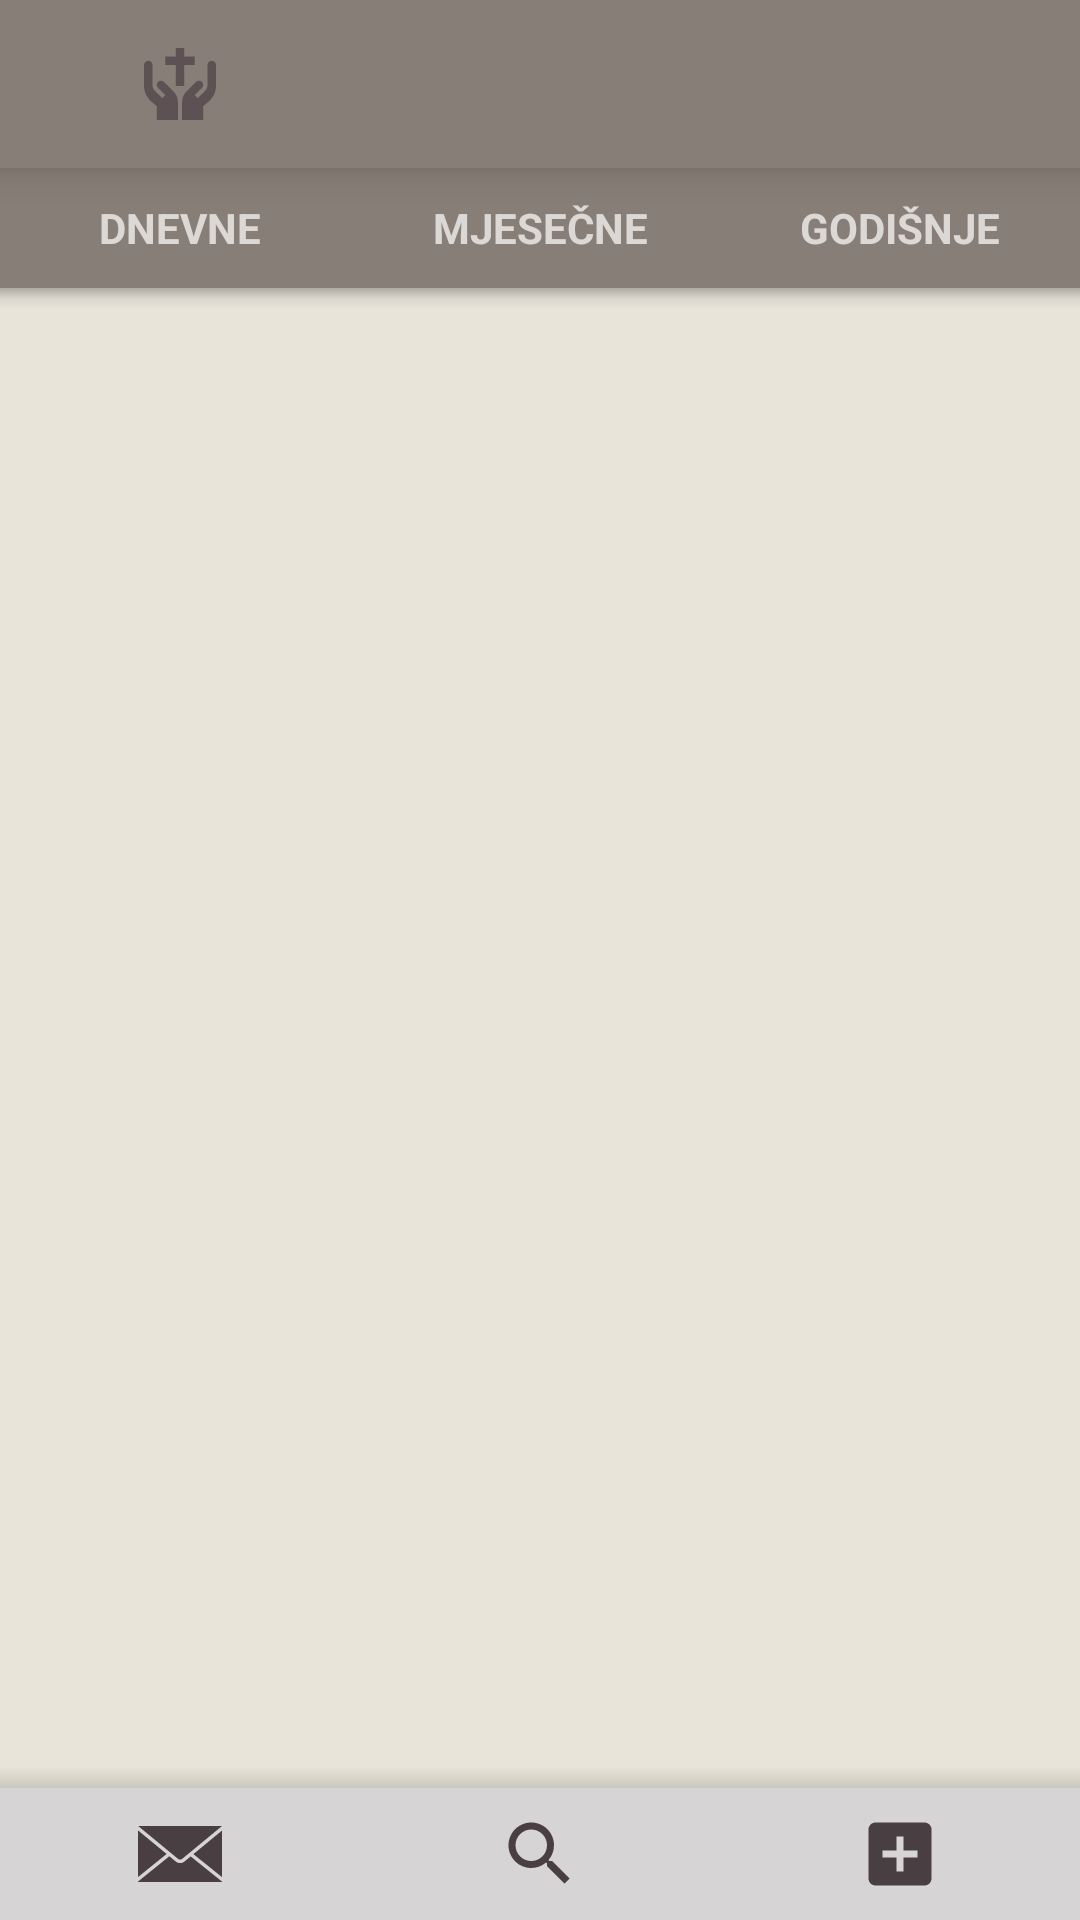

Icons on this 1080x1920 Android screen, each with its box as (x1, y1, x2, y2):
add: (868, 1822, 932, 1886)
messages: (138, 1826, 222, 1882)
search: (508, 1822, 570, 1884)
